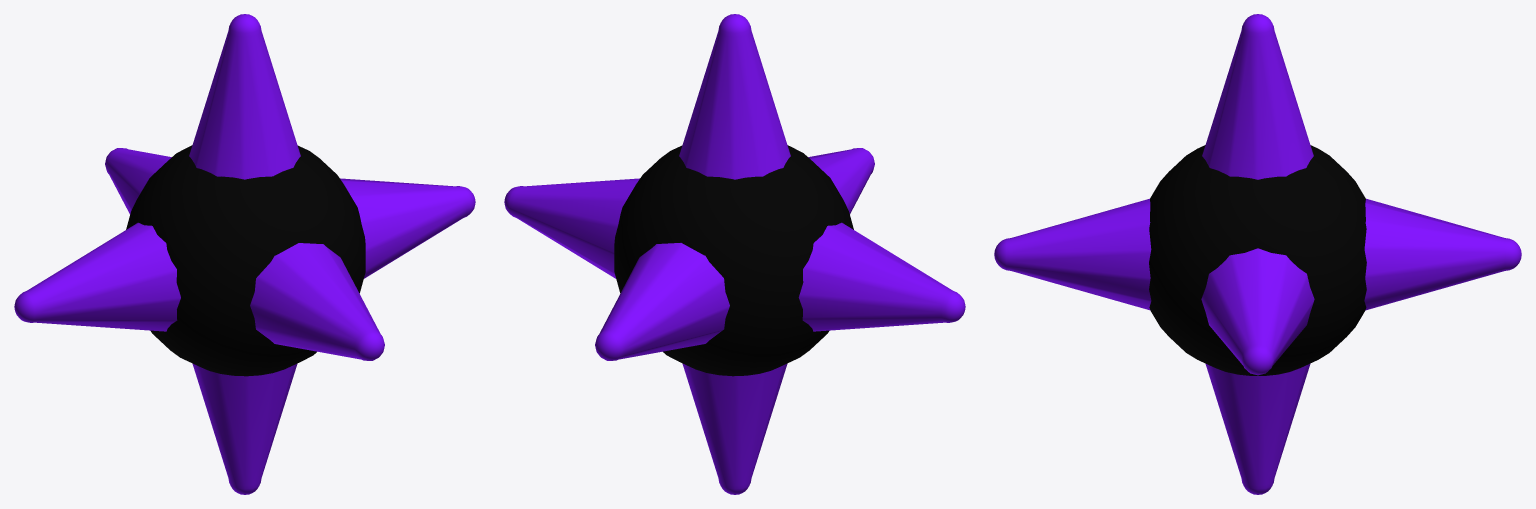
File: Obstacle_BM.fbx
3 views of the same model, side by side, from view 1: azimuth 30°, elevation 25°; view 2: azimuth 150°, elevation 25°; view 3: azimuth 270°, elevation 25° (orthographic).
Visible parts, largest first — view 1: Obstacle_BM; view 2: Obstacle_BM; view 3: Obstacle_BM.
Boxes of the visible parts, <box> form: Obstacle_BM: <box>14,14,475,494</box>; Obstacle_BM: <box>504,14,965,494</box>; Obstacle_BM: <box>994,14,1521,494</box>.
Bounding box in the file's own units: 1.08 × 1.08 × 1.08.
